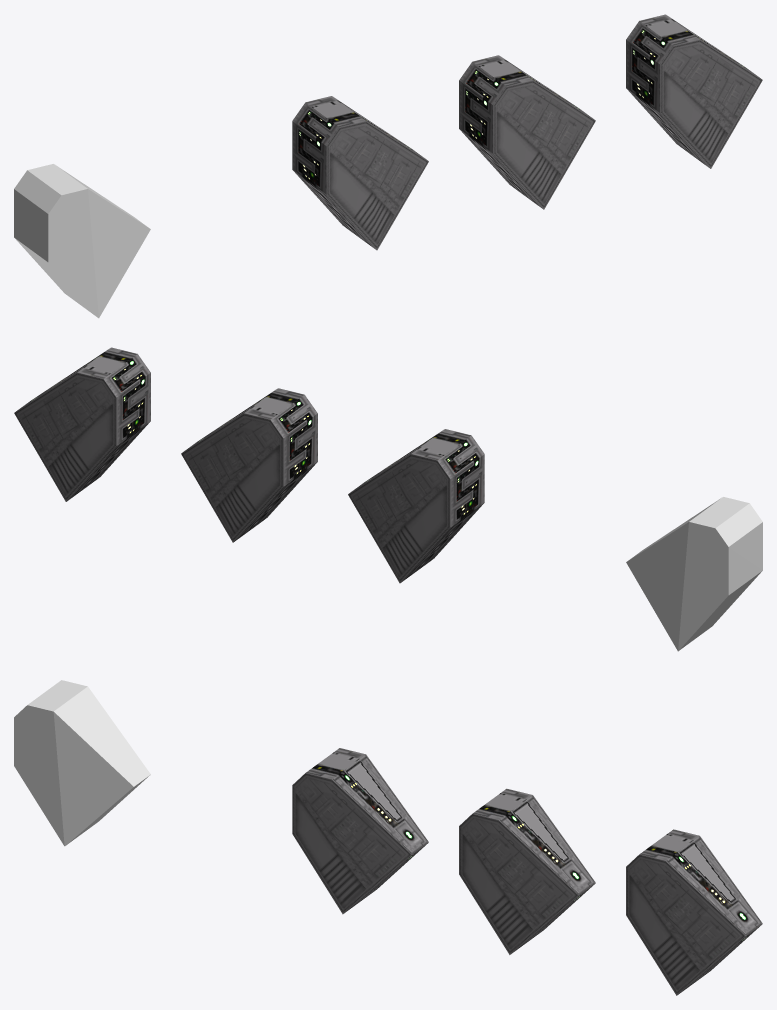
Rendered from ksh_sec_c_production_fighter.dae.
3 renders of one model, top to bottom at view 1: azimuth 30°, elevation 25°; view 2: azimuth 150°, elevation 25°; view 3: azimuth 330°, elevation 25°, orthographic.
Parts seen in each view (by area): view 1: MULT[root_mesh]_LOD[0], MULT[root_mesh]_LOD[1], MULT[root_mesh]_LOD[2], COL[Root]; view 2: MULT[root_mesh]_LOD[0], MULT[root_mesh]_LOD[1], MULT[root_mesh]_LOD[2], COL[Root]; view 3: MULT[root_mesh]_LOD[0], MULT[root_mesh]_LOD[1], MULT[root_mesh]_LOD[2], COL[Root].
Part boxes in pixels (box(x1,y1,x2,y2)): MULT[root_mesh]_LOD[0]: box(292, 96, 428, 250); MULT[root_mesh]_LOD[1]: box(459, 55, 595, 209); MULT[root_mesh]_LOD[2]: box(626, 14, 762, 168); COL[Root]: box(14, 164, 150, 318); MULT[root_mesh]_LOD[0]: box(348, 429, 484, 583); MULT[root_mesh]_LOD[1]: box(181, 388, 317, 542); MULT[root_mesh]_LOD[2]: box(14, 347, 150, 501); COL[Root]: box(626, 497, 762, 651); MULT[root_mesh]_LOD[0]: box(292, 748, 428, 914); MULT[root_mesh]_LOD[1]: box(459, 788, 595, 954); MULT[root_mesh]_LOD[2]: box(626, 829, 762, 995); COL[Root]: box(14, 680, 150, 846).
Bounding box in the file's own units: 808 × 141 × 66.42.
3 materials, 3 textured.
